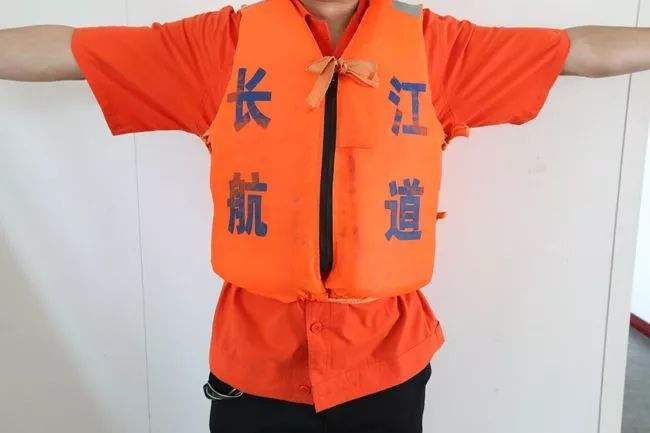reflective_clothes: (203, 1, 463, 295)
